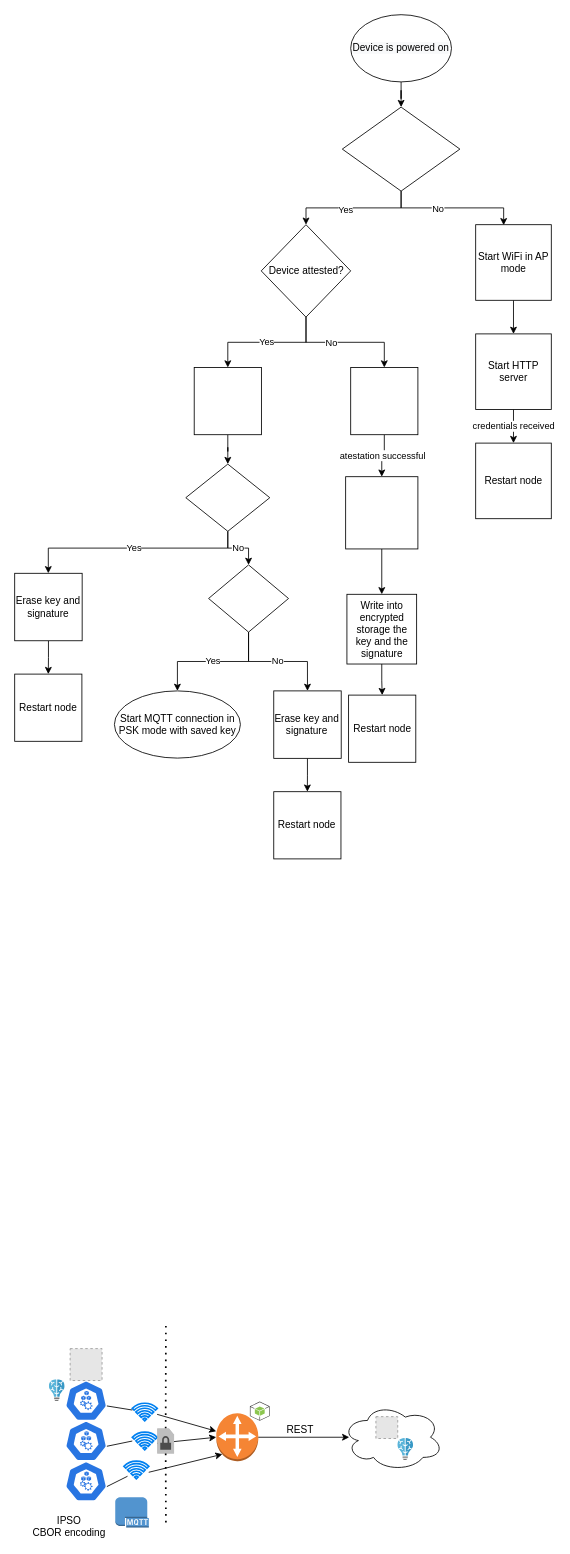
This 570x1554 diagram has some shape labels left out. Grey dashed boxes stand in for pictures. The centre of each missing label's shape, as x and y in pixels:
"Key expired?" goes at point 227,497.
"Read symmetric key and signature" goes at point 227,401.
"Sign the symmetric key" goes at point 381,512.
"Signature verifies?" goes at point 248,598.
"Start device attestation" goes at point 384,401.
"WiFi connection estabilished?" goes at point 400,148.
